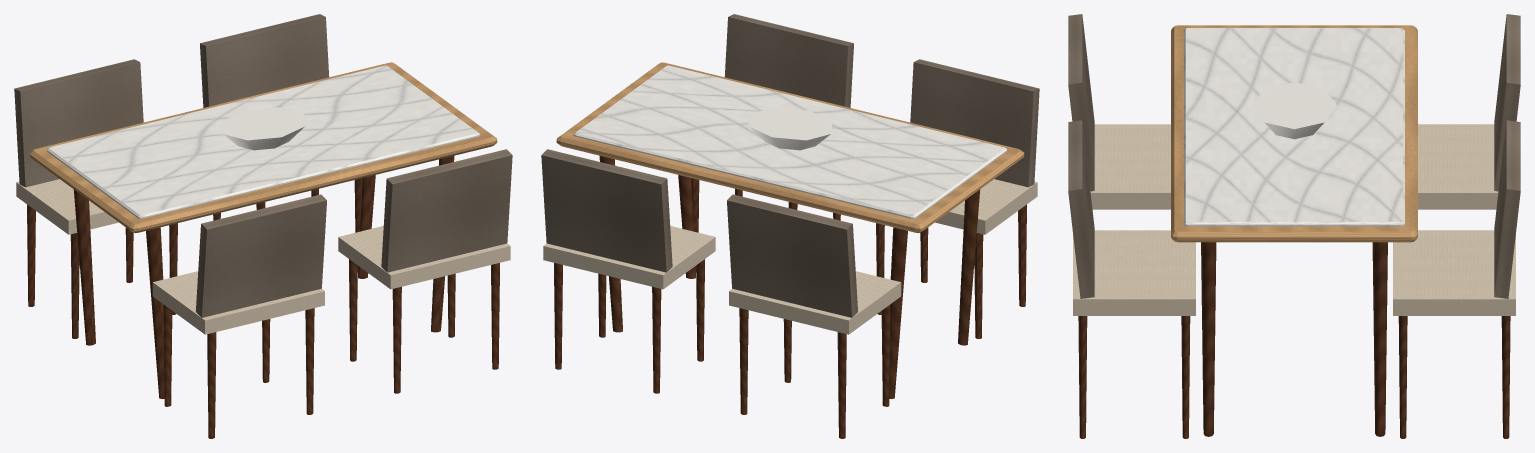
File: dining_table_4chairs.glb
The picture shows the model from 3 angles, left to right: view 1: azimuth 30°, elevation 25°; view 2: azimuth 150°, elevation 25°; view 3: azimuth 270°, elevation 25°; orthographic projection. The views are drawn at different scales.
Visible parts, largest first — view 1: dining_table_4chairs_fabricVelvet, dining_table_4chairs_marbleCarrara, dining_table_4chairs_woodWalnut, dining_table_4chairs_fabricLinen, dining_table_4chairs_woodOak, dining_table_4chairs_ceramicVase; view 2: dining_table_4chairs_fabricVelvet, dining_table_4chairs_marbleCarrara, dining_table_4chairs_woodWalnut, dining_table_4chairs_fabricLinen, dining_table_4chairs_woodOak, dining_table_4chairs_ceramicVase; view 3: dining_table_4chairs_marbleCarrara, dining_table_4chairs_fabricLinen, dining_table_4chairs_fabricVelvet, dining_table_4chairs_woodOak, dining_table_4chairs_woodWalnut, dining_table_4chairs_ceramicVase.
Part boxes in pixels (x1,y1,x2,y2): dining_table_4chairs_fabricVelvet: (14, 14, 512, 317); dining_table_4chairs_marbleCarrara: (46, 65, 480, 218); dining_table_4chairs_woodWalnut: (27, 155, 499, 438); dining_table_4chairs_fabricLinen: (16, 179, 510, 334); dining_table_4chairs_woodOak: (29, 62, 497, 233); dining_table_4chairs_ceramicVase: (221, 107, 305, 150); dining_table_4chairs_fabricVelvet: (541, 14, 1039, 317); dining_table_4chairs_marbleCarrara: (573, 65, 1007, 218); dining_table_4chairs_woodWalnut: (554, 155, 1026, 438); dining_table_4chairs_fabricLinen: (543, 179, 1037, 334); dining_table_4chairs_woodOak: (556, 62, 1024, 233); dining_table_4chairs_ceramicVase: (748, 107, 832, 150); dining_table_4chairs_marbleCarrara: (1184, 28, 1404, 226); dining_table_4chairs_fabricLinen: (1073, 124, 1515, 315); dining_table_4chairs_fabricVelvet: (1068, 14, 1520, 298); dining_table_4chairs_woodOak: (1171, 25, 1417, 242); dining_table_4chairs_woodWalnut: (1078, 242, 1510, 438); dining_table_4chairs_ceramicVase: (1252, 82, 1336, 139).
Size of what is drawn, in the model's own units: 1.45 by 0.82 by 1.32.
Materials: 6 (5 with a texture image).
